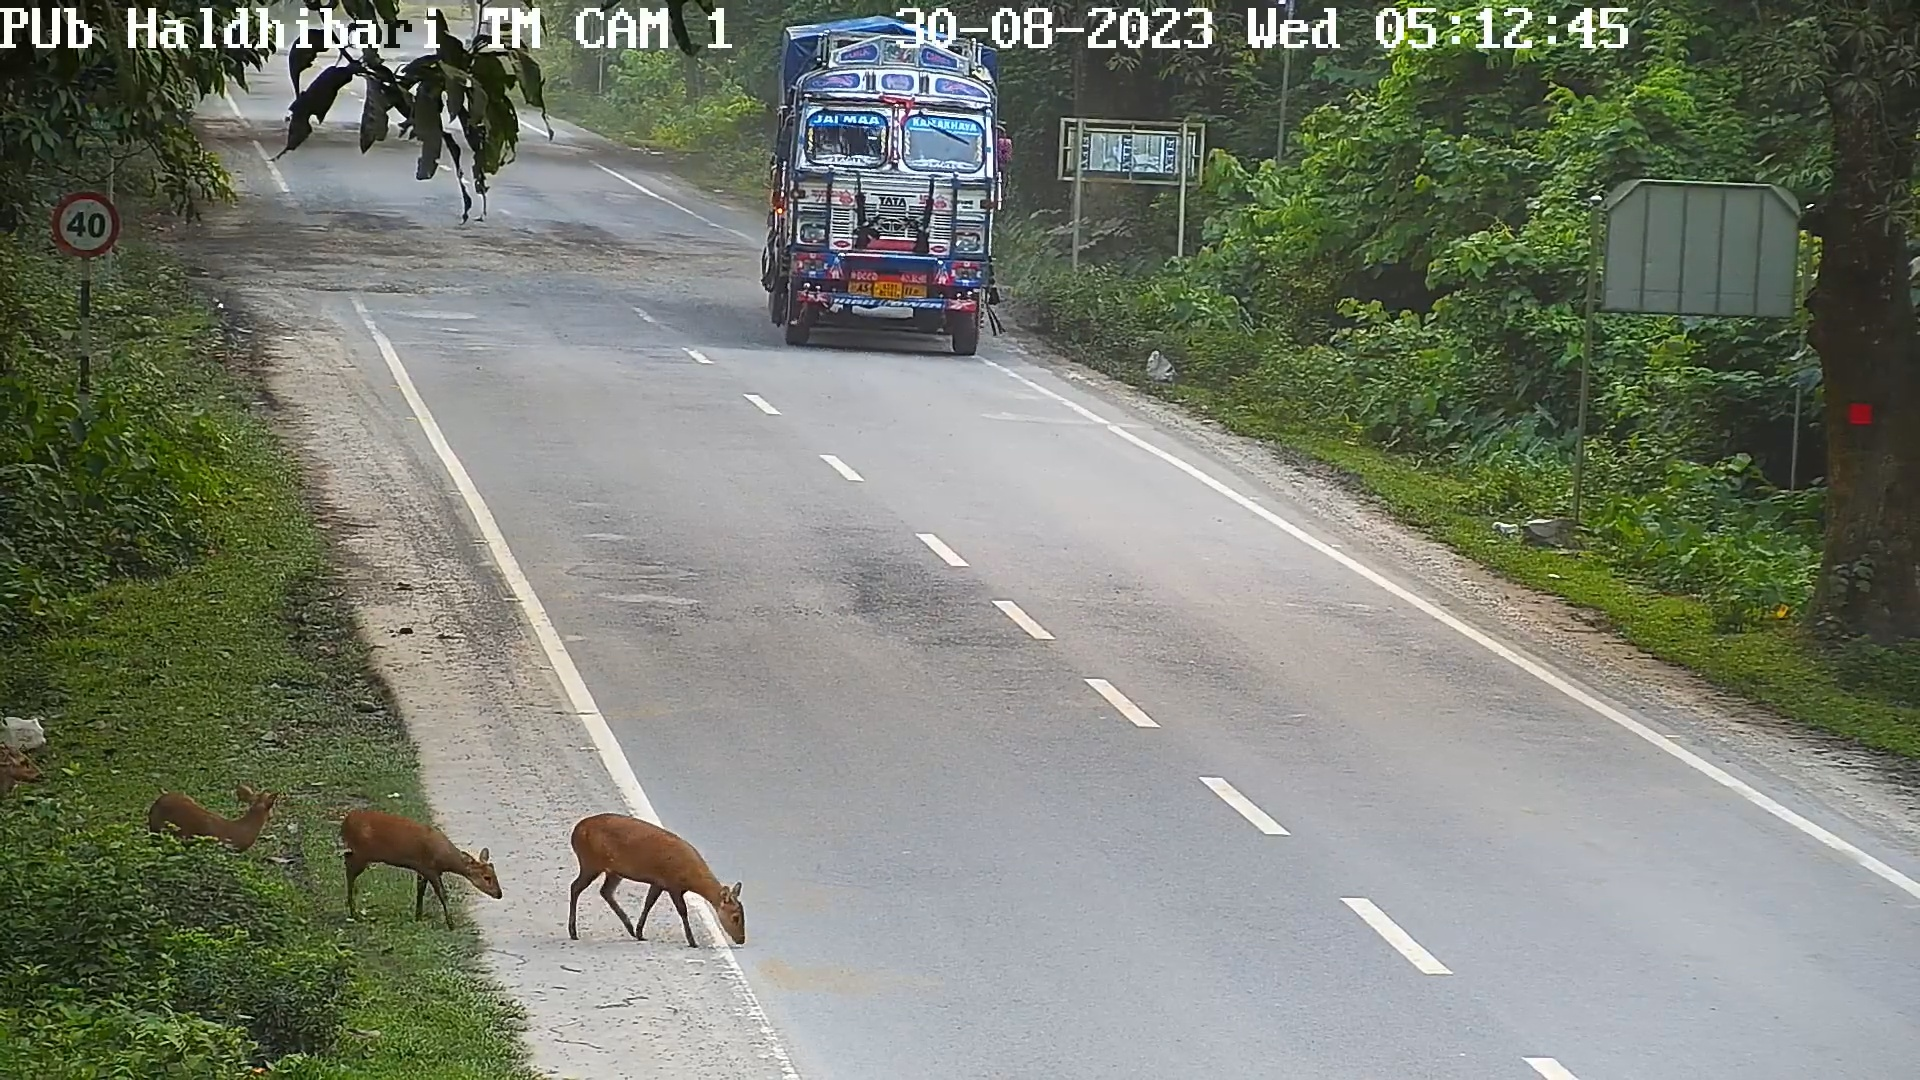deers: (558, 645, 771, 977), (117, 699, 335, 952), (342, 690, 501, 969)
